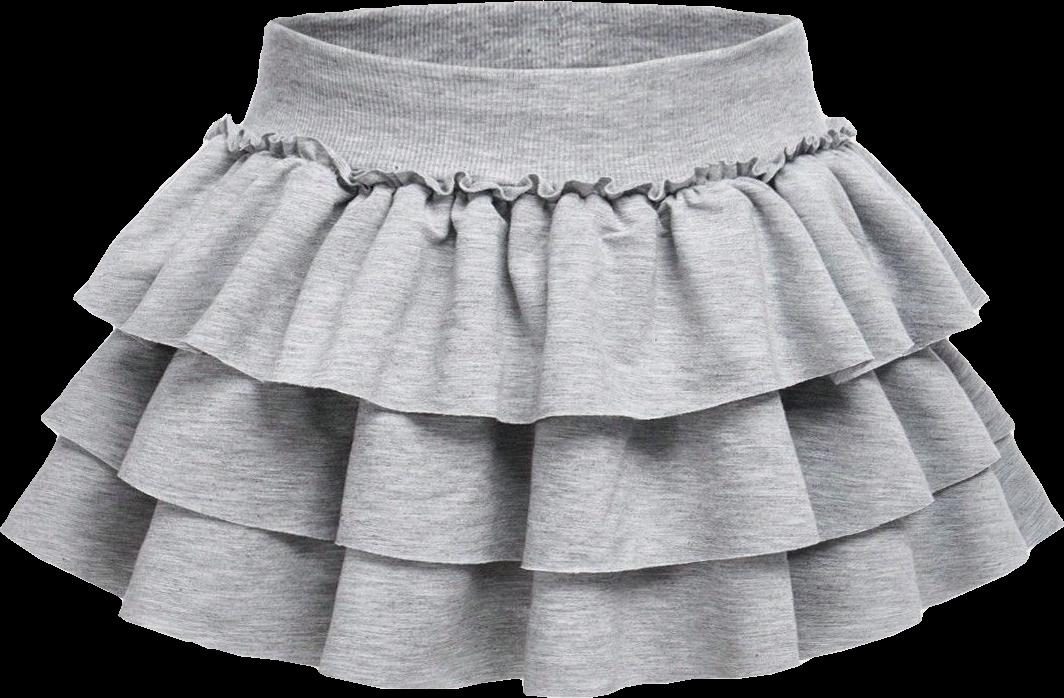Hemline: (0, 521, 1063, 697), (35, 416, 1018, 574), (66, 291, 994, 428)
Waistline: (233, 119, 836, 190), (266, 15, 804, 80)
